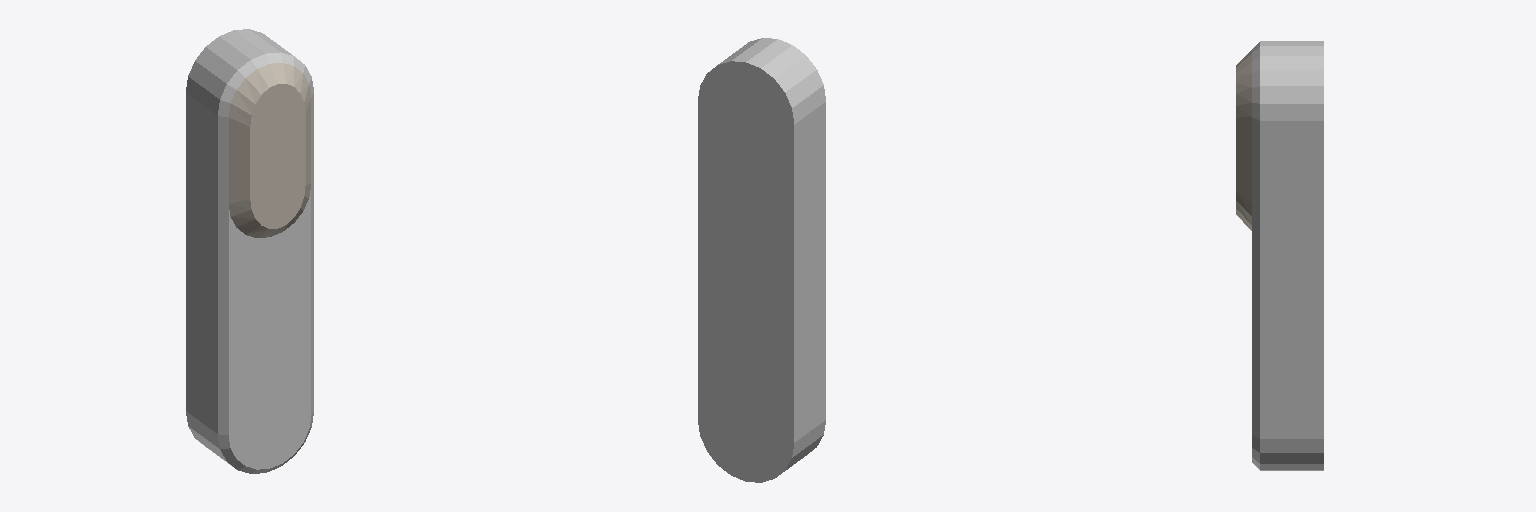
Rendered from LowerArm.obj.
3 renders of one model, left to right at view 1: azimuth 30°, elevation 25°; view 2: azimuth 150°, elevation 25°; view 3: azimuth 270°, elevation 25°, orthographic.
Visible parts, largest first — view 1: Cube; view 2: Cube; view 3: Cube.
Part boxes in pixels (left/top/right/bottom): Cube: left=186, top=29, right=313, bottom=473; Cube: left=698, top=38, right=825, bottom=482; Cube: left=1236, top=41, right=1323, bottom=470.
Bounding box in the file's own units: 35 × 145 × 27.5.